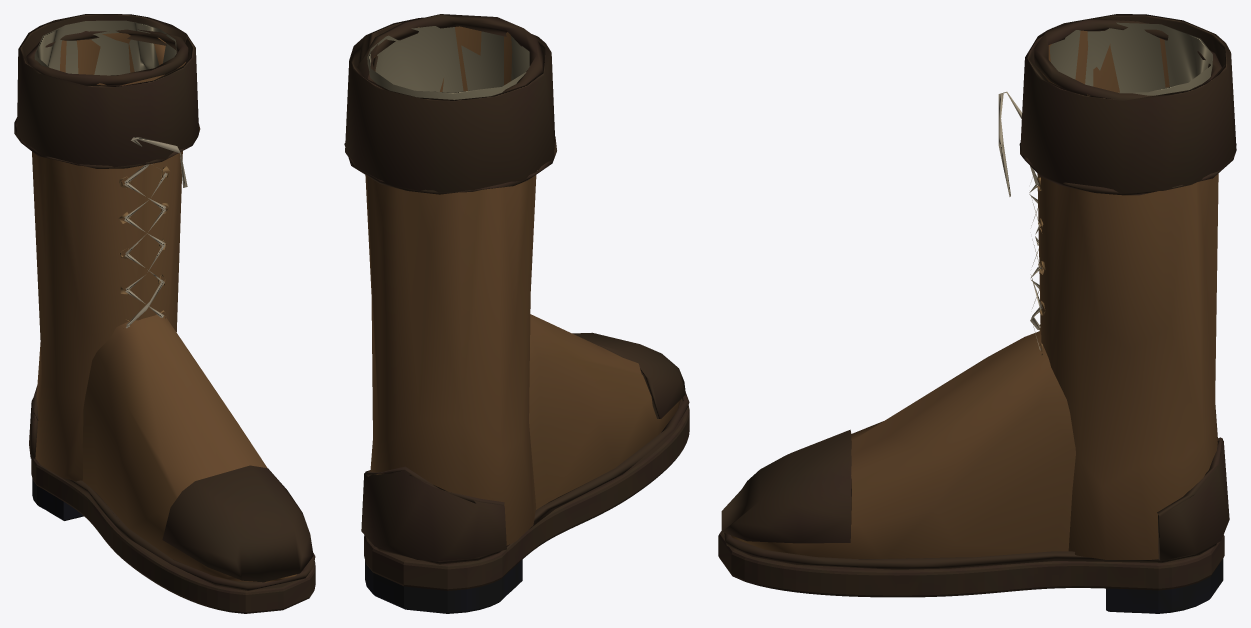
The picture shows the model from 3 angles, left to right: view 1: azimuth 30°, elevation 25°; view 2: azimuth 150°, elevation 25°; view 3: azimuth 270°, elevation 25°; orthographic projection. The views are drawn at different scales.
Parts seen in each view (by area): view 1: oiled strap leather, aged alloy edge; view 2: oiled strap leather; view 3: oiled strap leather.
Boxes of the visible parts, left/top/right/bottom form: oiled strap leather: left=14, top=14, right=315, bottom=613; aged alloy edge: left=118, top=166, right=170, bottom=327; oiled strap leather: left=344, top=14, right=689, bottom=613; oiled strap leather: left=718, top=14, right=1236, bottom=613.
Size of the model in its own units: 0.117 by 0.3192 by 0.2807.
